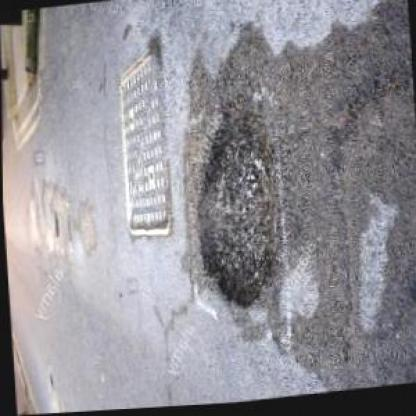pothole: (183, 87, 287, 315), (52, 206, 58, 242)
